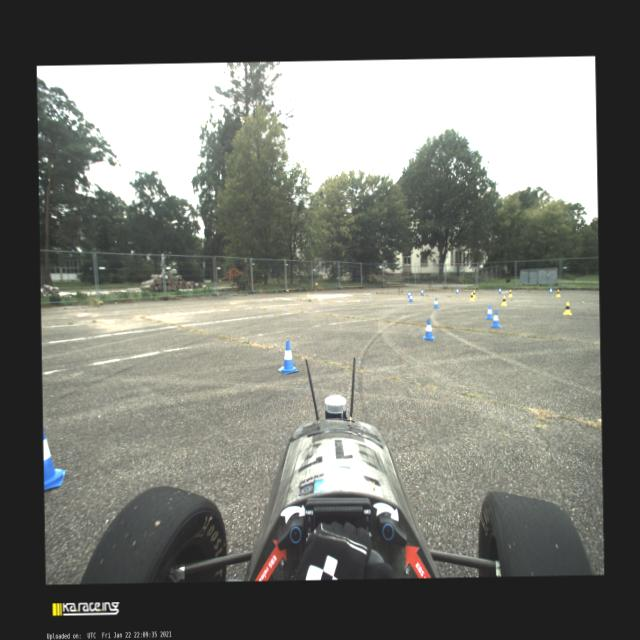blue_cone: (42, 426, 64, 490), (276, 340, 298, 374), (422, 318, 434, 340), (490, 310, 500, 328), (484, 304, 493, 318), (432, 297, 438, 308), (408, 292, 413, 302), (420, 288, 424, 296), (455, 287, 459, 294), (548, 287, 552, 294), (407, 290, 410, 298), (498, 287, 501, 294)
yellow_cone: (562, 300, 572, 315), (500, 296, 506, 306), (469, 292, 474, 302), (555, 289, 560, 297), (508, 288, 512, 296), (472, 290, 476, 298)
